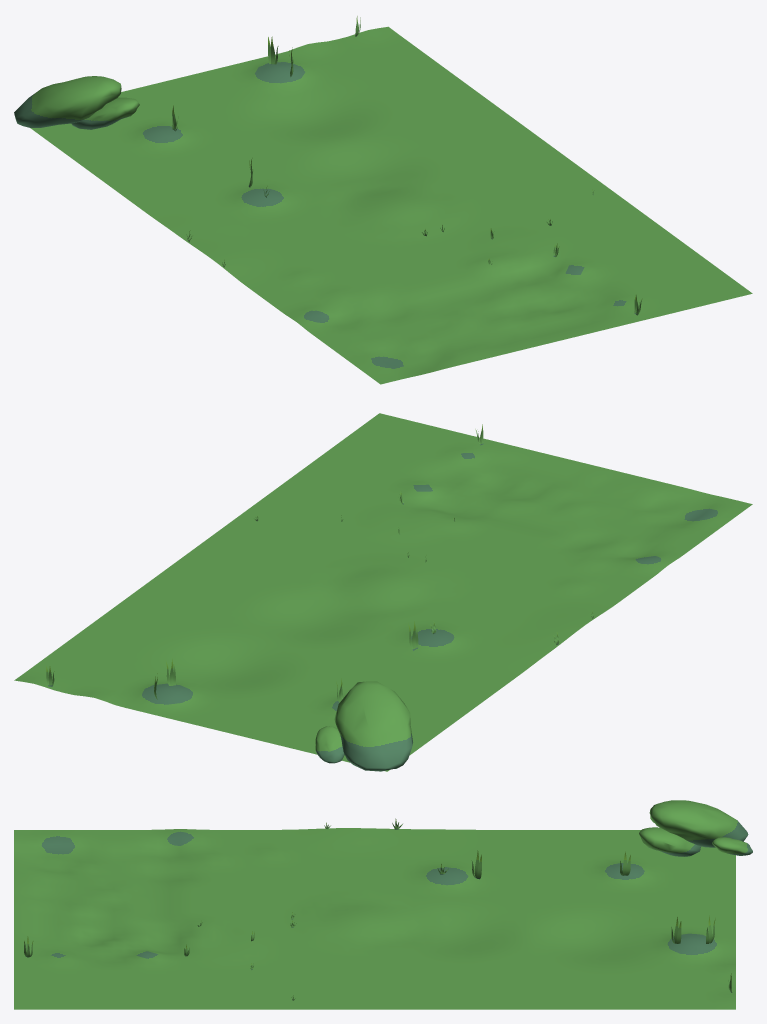
File: pasto.fbx
3 renders of one model, top to bottom at view 1: azimuth 30°, elevation 25°; view 2: azimuth 150°, elevation 25°; view 3: azimuth 270°, elevation 25°, orthographic.
Parts seen in each view (by area): view 1: pasto, arbustos; view 2: pasto, arbustos; view 3: pasto, arbustos.
Boxes of the visible parts, box(x1,y1,x2,y2) form: pasto: box(30, 26, 752, 384); arbustos: box(14, 76, 139, 129); pasto: box(14, 413, 752, 771); arbustos: box(315, 681, 412, 771); pasto: box(14, 828, 735, 1009); arbustos: box(639, 800, 752, 856).
Size of the model in its own units: 1537 by 211 by 2603.
